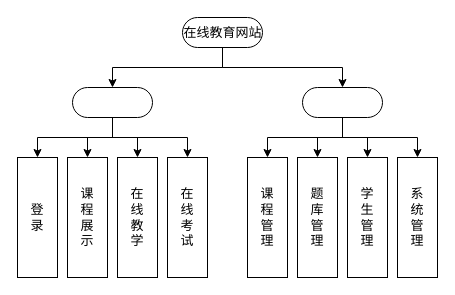
Some shapes in this 455 by 295 pixel diagram are drawn without their labels. The box of each missing label's shape, as (x1, y1, x2, y2) in pixels:
后台管理模块: (302, 86, 382, 118)
学生模块: (72, 86, 152, 118)
